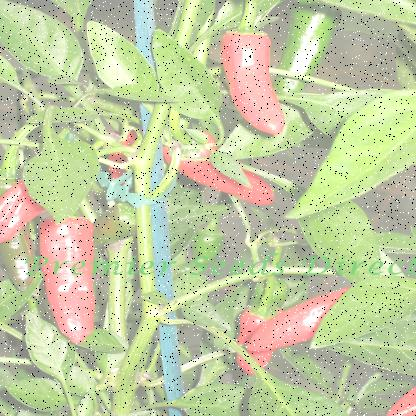chili: (29, 216, 109, 348), (214, 32, 298, 144), (167, 128, 279, 206)
